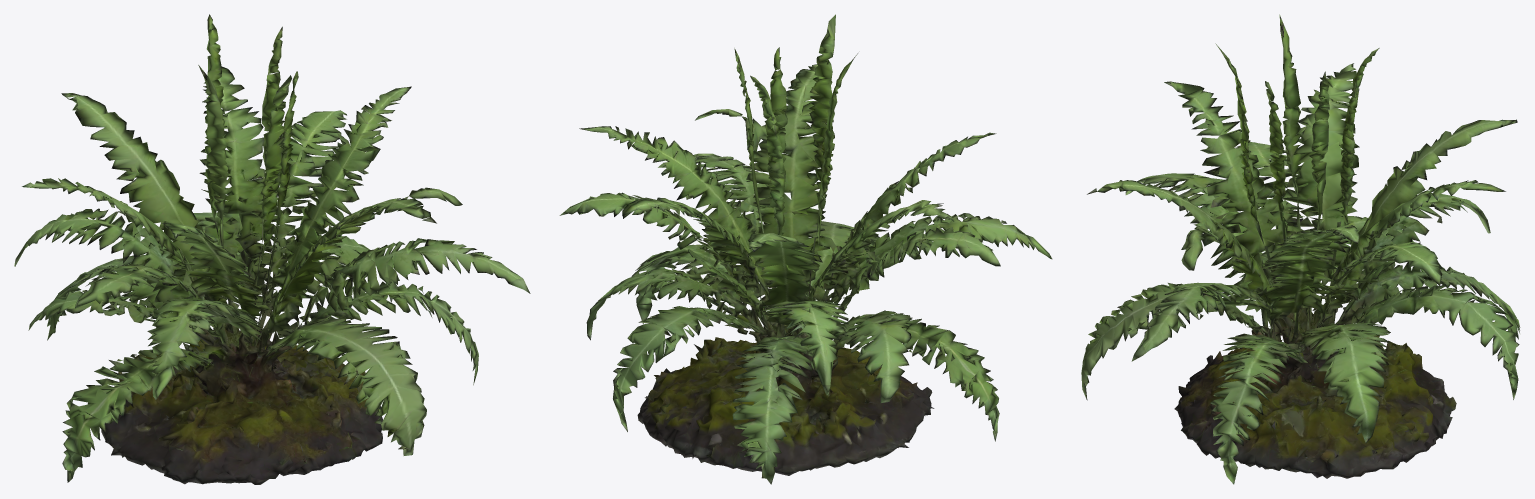
Rendered from fern_deer_natural.glb.
3 views of the same model, side by side, from view 1: azimuth 30°, elevation 25°; view 2: azimuth 150°, elevation 25°; view 3: azimuth 270°, elevation 25° (orthographic). The views are drawn at different scales.
Bounding box in the file's own units: 2 × 1.9 × 2.
1 material, 1 textured.
